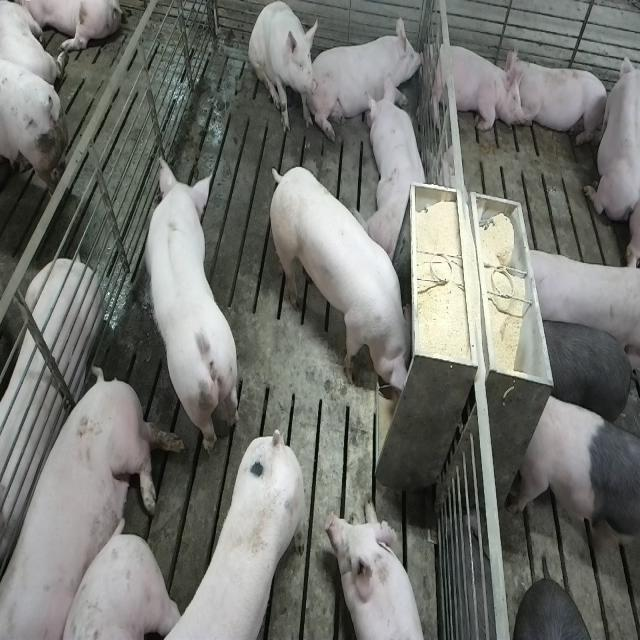Feeding: (272, 165, 421, 398)
Lateral_lying: (2, 367, 184, 640), (0, 257, 102, 582)
Sitting: (248, 2, 320, 136)
Standing: (137, 426, 309, 638), (141, 154, 239, 462), (512, 387, 639, 566), (519, 243, 637, 372), (540, 315, 638, 426), (591, 396, 640, 572)
Sternal_lying: (315, 12, 425, 140), (332, 503, 433, 640), (367, 78, 430, 259), (584, 42, 637, 229), (509, 52, 609, 148), (425, 36, 520, 134)
